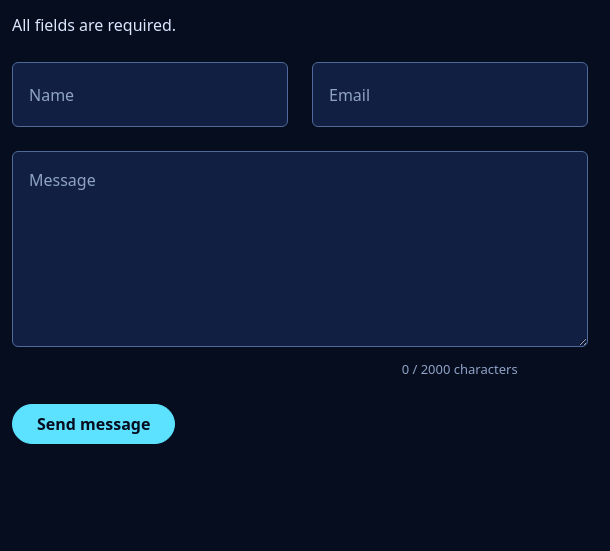
ContactForm › hides the old error while the message is sent again
The width and height of the screenshot is (610, 551).
In the field labelled "Name": (150, 95) [12,62,288,127], type "Ada Lovelace"
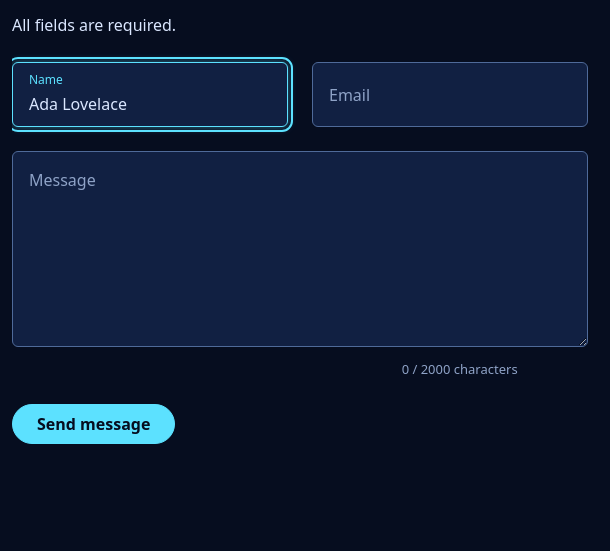
In the field labelled "Email": (450, 95) [312,62,588,127], type "ada@example.com"
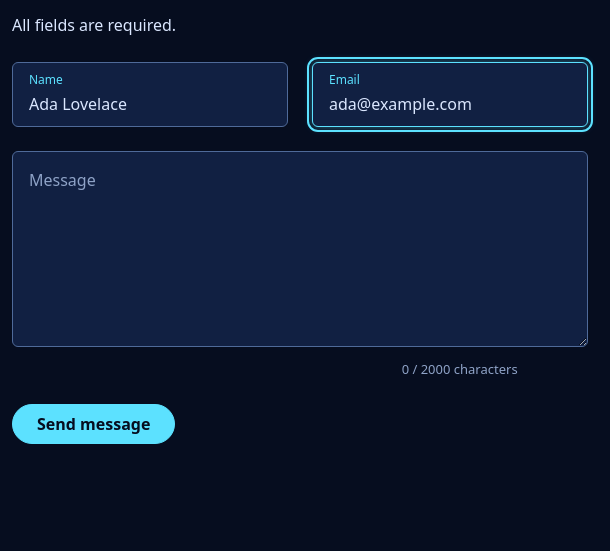
In the text box labelled "Message": (300, 249) [12,151,588,347], type "Hello! I would like to talk about a project."
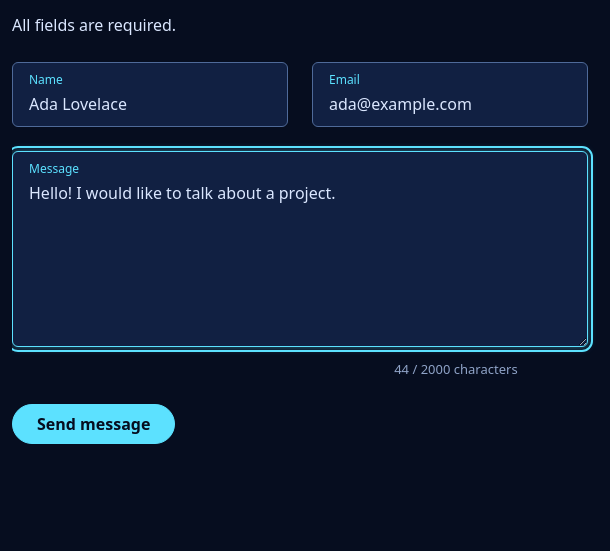
Click the button "Send message": (94, 424) [12,404,175,444]
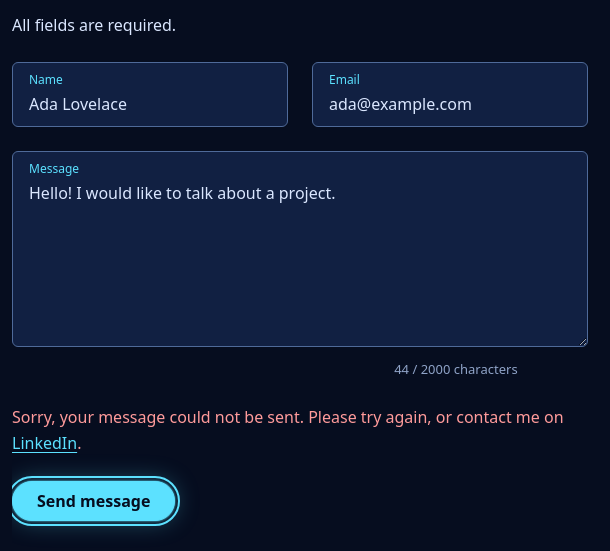
Expected: the message is shown, [12,404,588,457]
Click the button "Send message": (94, 501) [12,481,175,521]
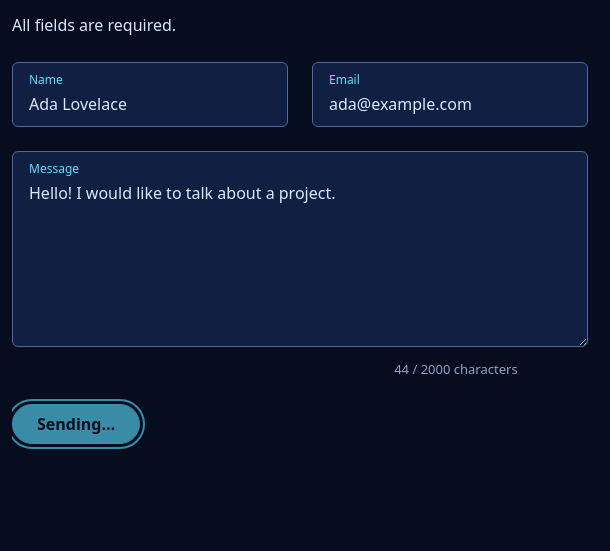
Expected: the message is gone
Expected: the button "Sending…" is shown, [12,404,140,444]
